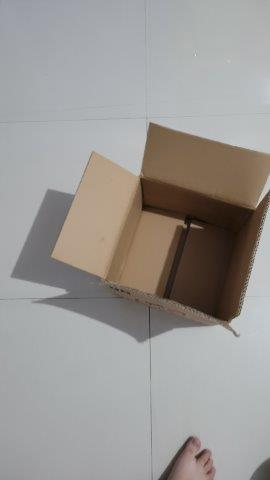kardus: (49, 120, 270, 329)
